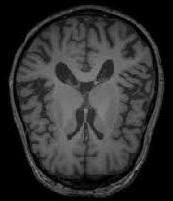Normal_Brain: (2, 1, 173, 201)
